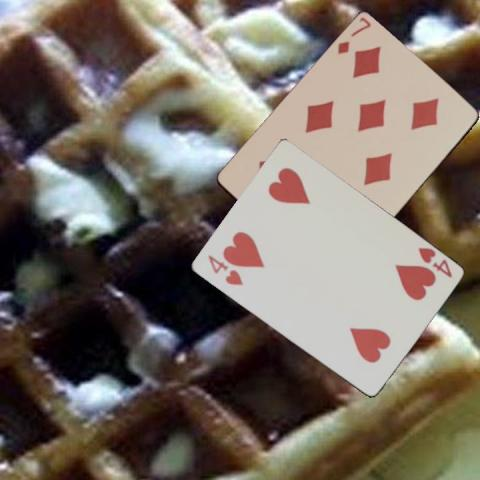4h: (205, 252, 244, 287), (414, 244, 453, 279)
7d: (334, 15, 373, 56)
